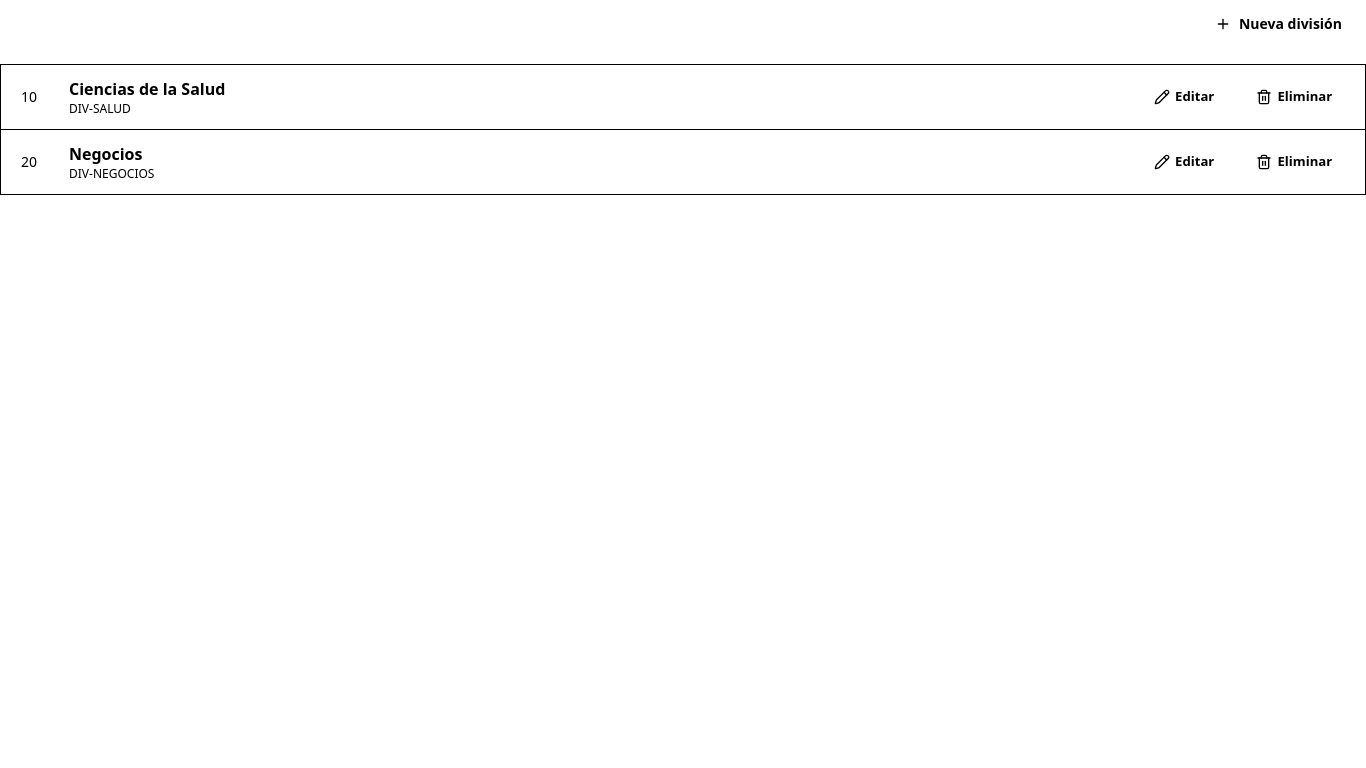
Test: a division with careers, workshops and student interests warns about each of them before confirming
The width and height of the screenshot is (1366, 768).
Click the button with aria-label "Eliminar Ciencias de la Salud" at (1294, 97), box [1243,77,1345,117]
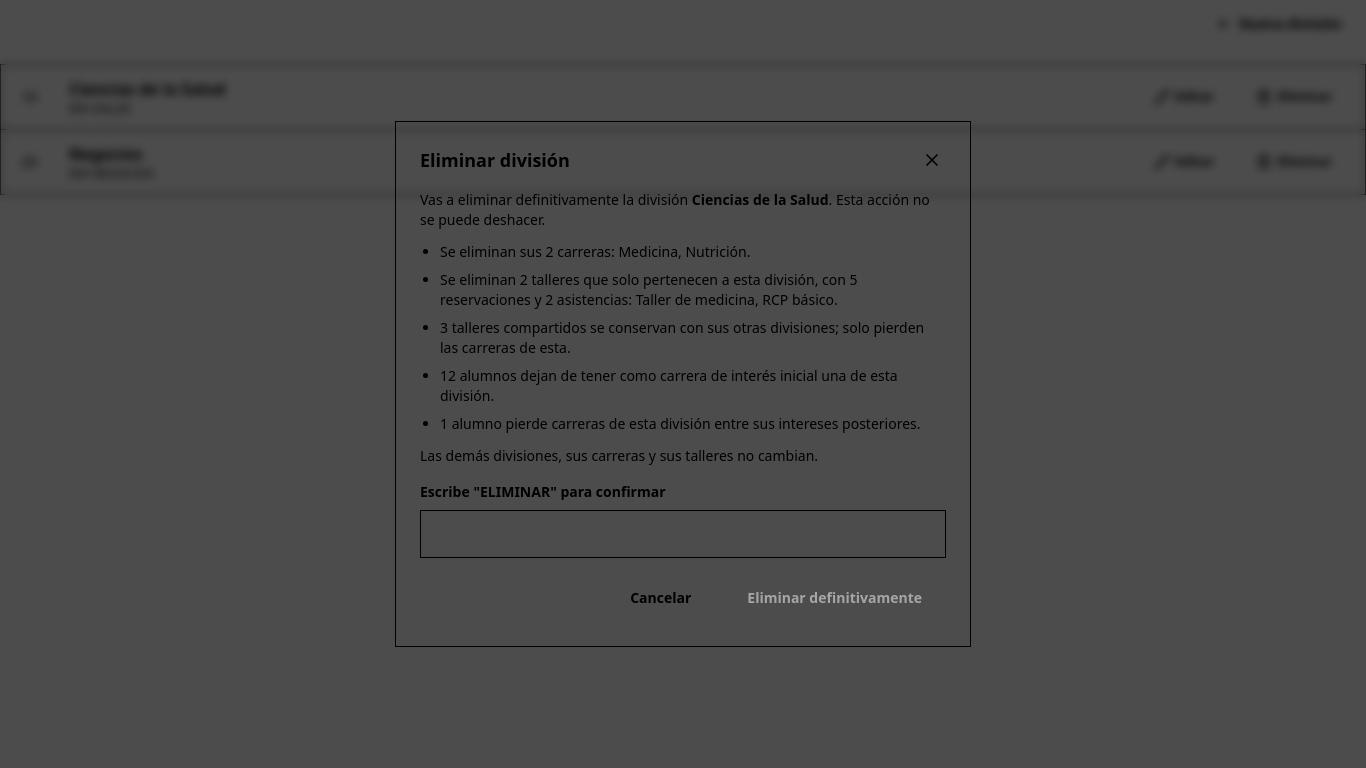
Expected: the list items read "Se eliminan sus 2 carreras: Medicina, Nutrición.", "Se eliminan 2 talleres que solo pertenecen a esta división, con 5 reservaciones y 2 asistencias: Taller de medicina, RCP básico.", "3 talleres compartidos se conservan con sus otras divisiones; solo pierden las carreras de esta.", "12 alumnos dejan de tener como carrera de interés inicial una de esta división.", "1 alumno pierde carreras de esta división entre sus intereses posteriores.", in this order, [440,242,750,261]; [440,270,858,309]; [440,318,946,358]; [440,366,946,406]; [440,414,946,434]
Expected: the text "Las demás divisiones, sus carreras y sus talleres no cambian." is shown, [420,446,818,465]
